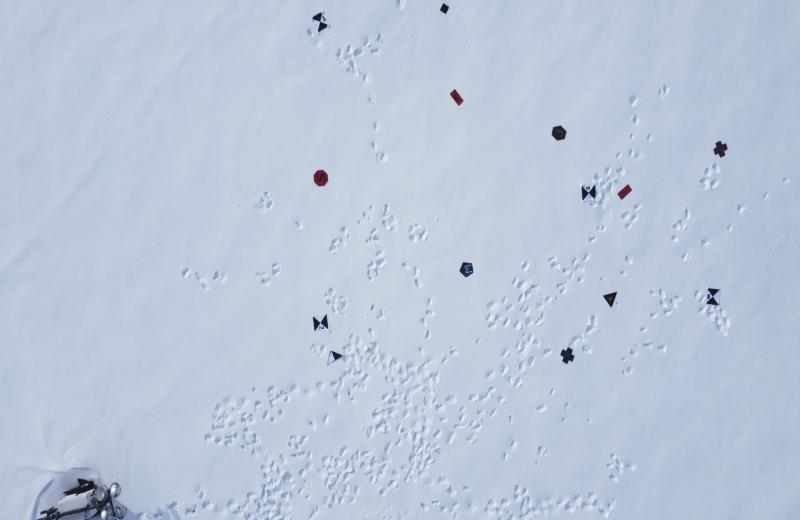Cross: (558, 346, 576, 366), (712, 141, 728, 160)
Hexagon: (550, 124, 568, 143)
Octagon: (312, 168, 330, 188)
Pentagon: (458, 260, 475, 279)
Rectangle: (448, 87, 465, 108), (616, 182, 633, 202)
Square: (439, 2, 450, 16)
Triangle: (601, 291, 620, 310)
